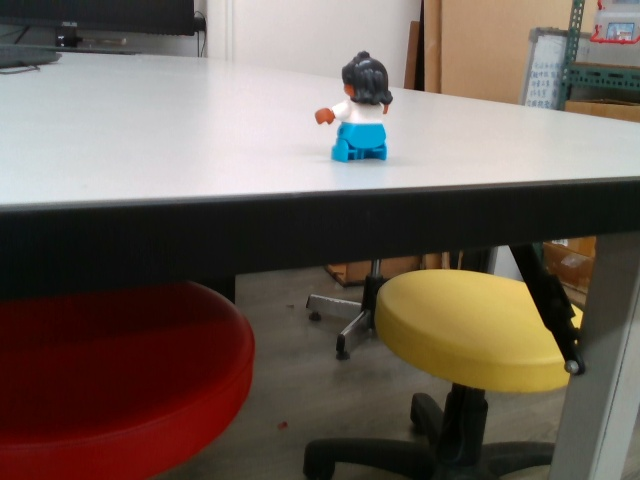people: (311, 48, 398, 166)
